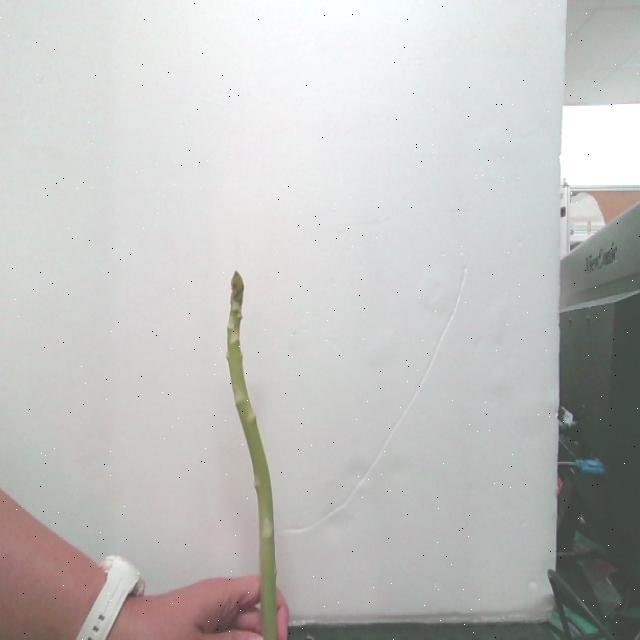aspargus: (227, 274, 281, 640)
